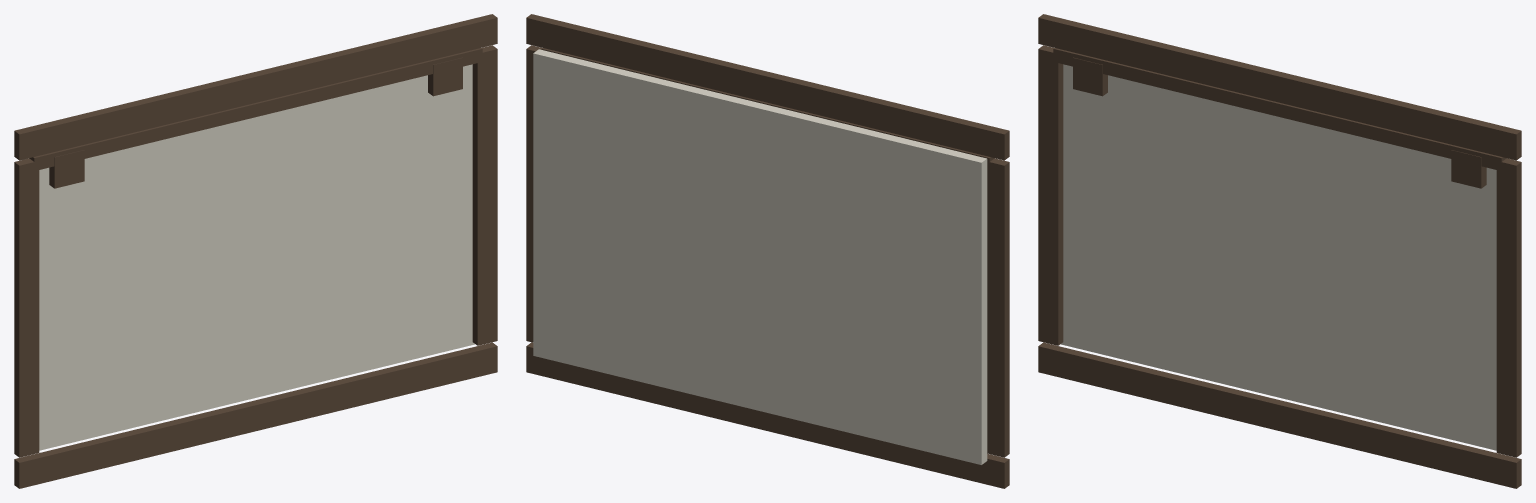
The model's file is boards--notice--v1--model.glb.
The picture shows the model from 3 angles, left to right: view 1: azimuth 30°, elevation 25°; view 2: azimuth 150°, elevation 25°; view 3: azimuth 330°, elevation 25°; orthographic projection.
Visible parts, largest first — view 1: information-back, notice-top-outer, notice-bottom, notice-left, notice-right, notice-top-inner, clamp-left, clamp-right; view 2: information-back, notice-top-outer, notice-bottom, notice-left, notice-right, notice-top-inner; view 3: information-back, notice-top-outer, notice-bottom, notice-right, notice-left, notice-top-inner, clamp-right, clamp-left.
Boxes of the visible parts, x1,y1,x2,y2 form: information-back: (22,64,474,450); notice-top-outer: (14,14,497,160); notice-bottom: (14,342,497,488); notice-left: (14,158,39,457); notice-right: (472,45,497,345); notice-top-inner: (29,48,482,170); clamp-left: (49,150,84,188); clamp-right: (428,57,462,96); information-back: (533,49,987,464); notice-top-outer: (526,14,1009,160); notice-bottom: (526,342,1009,488); notice-left: (987,158,1009,457); notice-right: (526,45,541,342); notice-top-inner: (541,48,994,170); information-back: (1061,64,1513,450); notice-top-outer: (1038,14,1521,160); notice-bottom: (1038,342,1521,488); notice-right: (1496,158,1521,457); notice-left: (1038,45,1063,345); notice-top-inner: (1053,48,1506,170); clamp-right: (1451,150,1486,188); clamp-left: (1073,57,1107,96).
Bounding box in the file's own units: 0.96 × 0.68 × 0.047.
